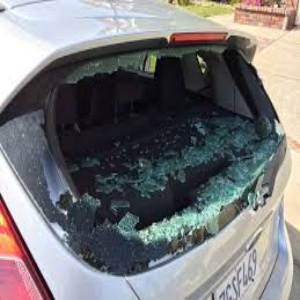rear_windshield_glass: (77, 62, 256, 232)
